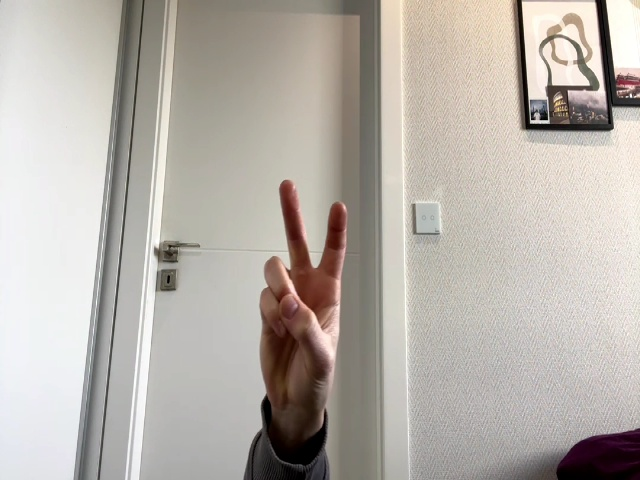H: (260, 180, 347, 412)
